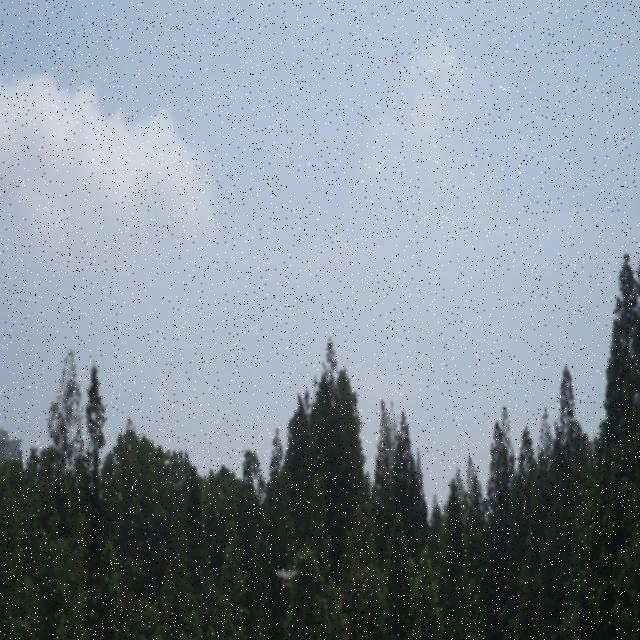UAV: (276, 570, 298, 588)
